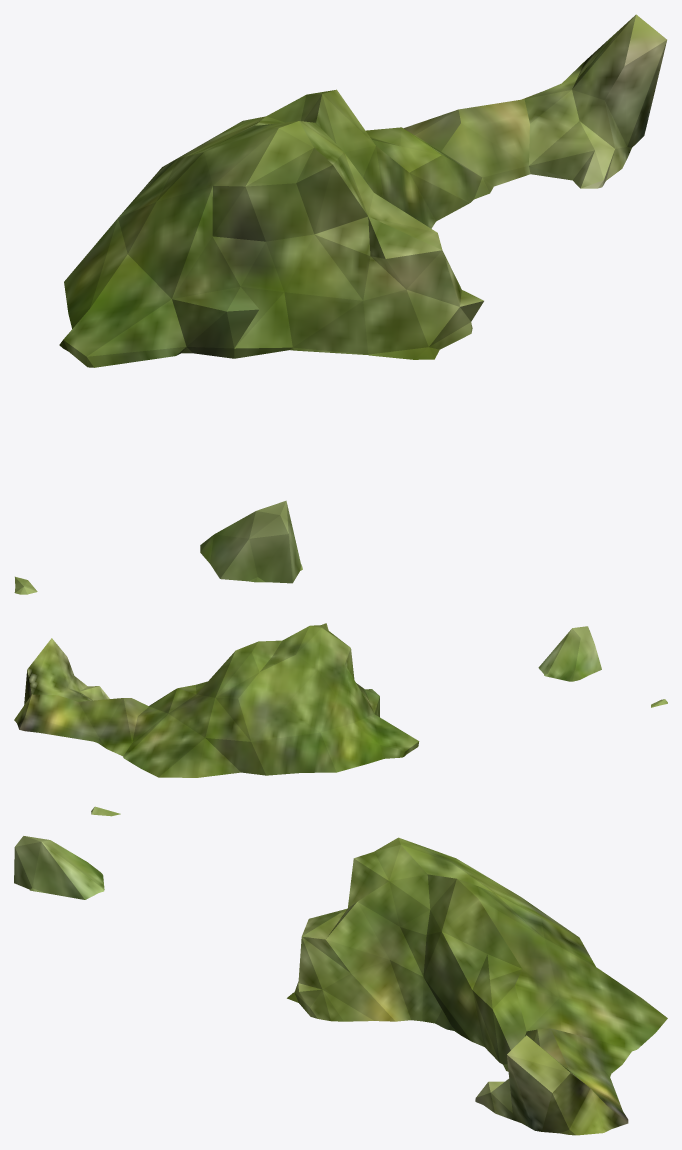
3 renders of one model, top to bottom at view 1: azimuth 30°, elevation 25°; view 2: azimuth 150°, elevation 25°; view 3: azimuth 270°, elevation 25°, orthographic. The views are drawn at different scales.
Bounding box in the file's own units: 1.76 × 0.337 × 1.48.
Materials: 1 (1 with a texture image).
